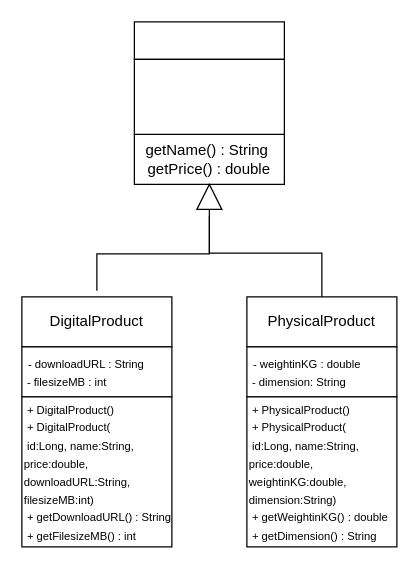
The diagram is 419 pixels wide and 569 high, and some of its shapes have lost their labels. The centre of each missing label's shape, as x and y in pixels:
- id : Long - name : String - price : double: the point at 208,96
Product: the point at 208,40
